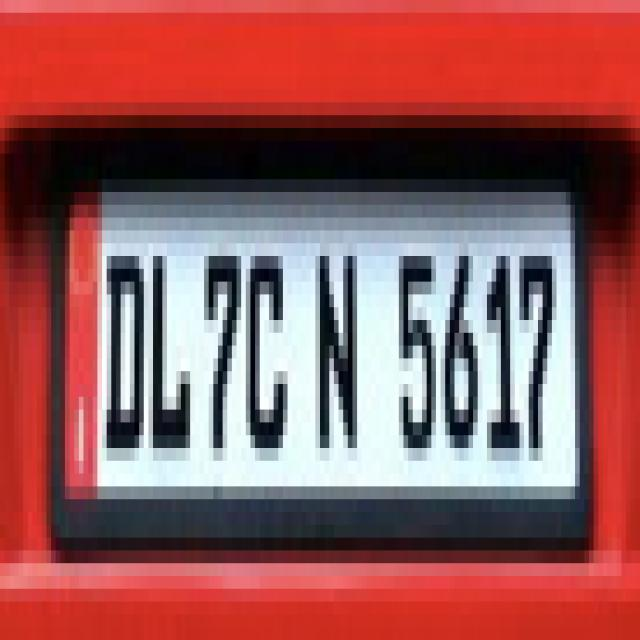1: (484, 234, 523, 464)
5: (393, 230, 442, 450)
6: (442, 239, 482, 453)
7: (518, 223, 562, 470), (202, 228, 242, 454)
C: (247, 235, 293, 448)
D: (101, 228, 146, 466)
L: (147, 232, 193, 460)
N: (316, 228, 362, 466)
